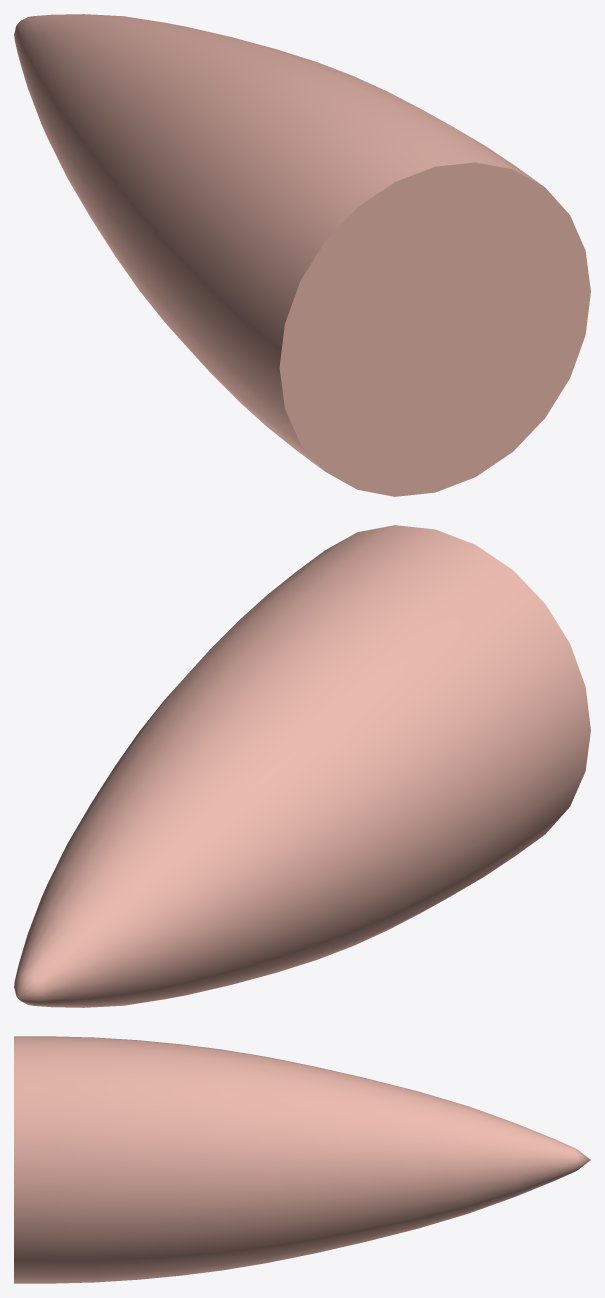
The model's file is SM_223Projectile.fbx.
3 views of the same model, one above another, from view 1: azimuth 30°, elevation 25°; view 2: azimuth 150°, elevation 25°; view 3: azimuth 270°, elevation 25° (orthographic). The views are drawn at different scales.
Parts seen in each view (by area): view 1: Cylinder.001; view 2: Cylinder.001; view 3: Cylinder.001.
Part boxes in pixels (left/top/right/bottom): Cylinder.001: left=14, top=14, right=590, bottom=496; Cylinder.001: left=14, top=525, right=590, bottom=1007; Cylinder.001: left=14, top=1036, right=590, bottom=1283.
Bounding box in the file's own units: 0.5387 × 1.25 × 0.5387.
